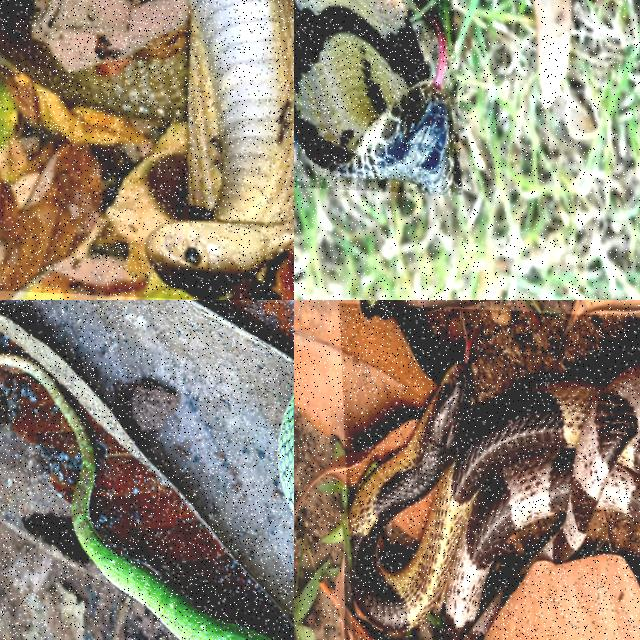Bungarus candidus: (349, 362, 639, 639)
Naja siamensis: (0, 0, 293, 299), (294, 0, 461, 194)
Trimeresurus: (0, 355, 274, 639)
